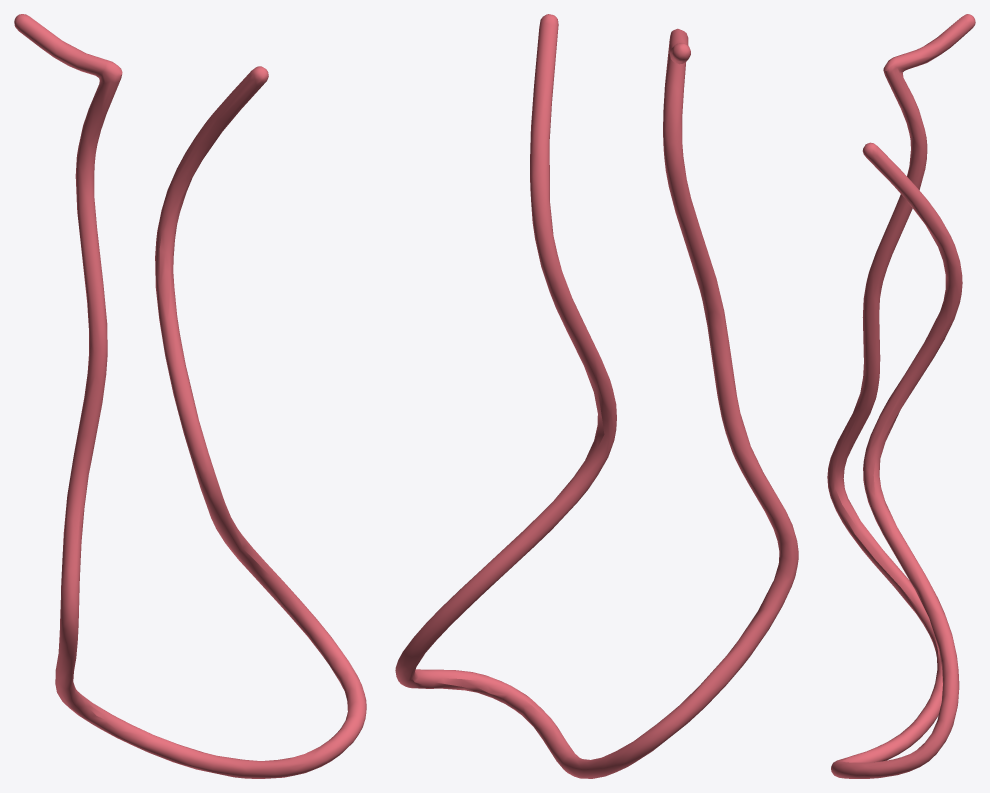
The model's file is fma22915_fj2301.glb.
3 views of the same model, side by side, from view 1: azimuth 30°, elevation 25°; view 2: azimuth 150°, elevation 25°; view 3: azimuth 270°, elevation 25° (orthographic). The views are drawn at different scales.
Visible parts, largest first — view 1: FMA22915_FJ2301; view 2: FMA22915_FJ2301; view 3: FMA22915_FJ2301.
Boxes of the visible parts, x1=… form: FMA22915_FJ2301: x1=14, y1=14, x2=366, y2=778; FMA22915_FJ2301: x1=395, y1=14, x2=798, y2=778; FMA22915_FJ2301: x1=827, y1=14, x2=975, y2=778.
Size of the model in its own units: 0.0305 by 0.0668 by 0.0133.
